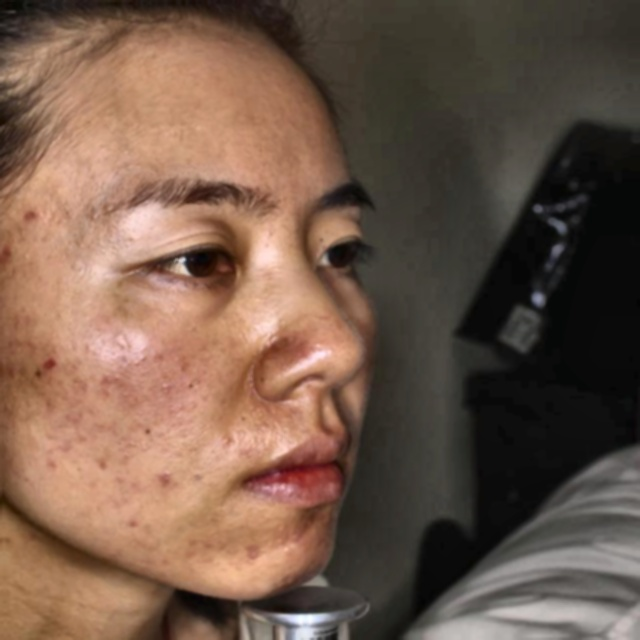comedone: (146, 459, 181, 495), (13, 197, 37, 228), (34, 350, 59, 379)
